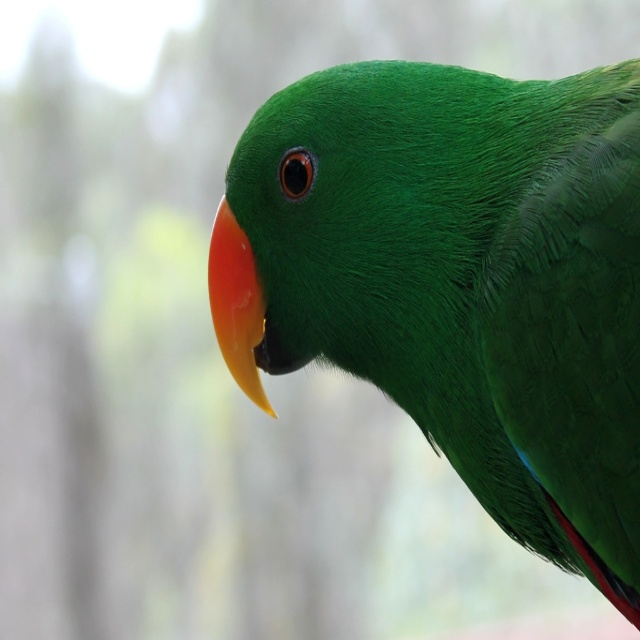Parrot: (205, 40, 640, 639)
